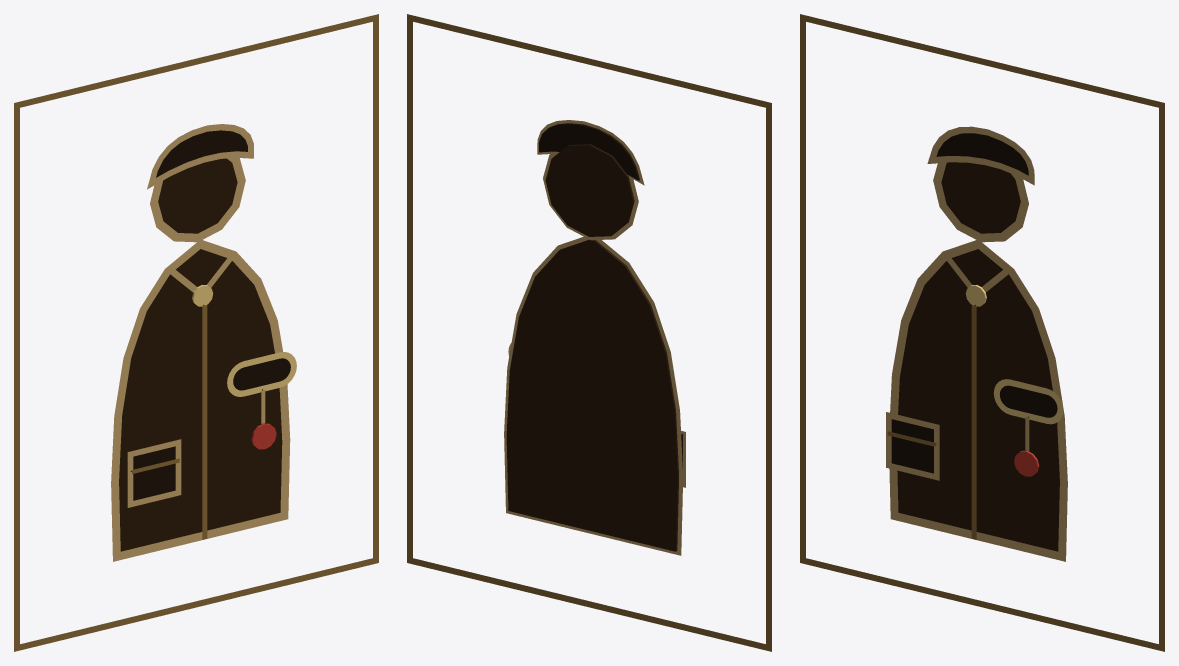
The model's file is npc-latinskiy-legat.glb.
3 views of the same model, side by side, from view 1: azimuth 30°, elevation 25°; view 2: azimuth 150°, elevation 25°; view 3: azimuth 330°, elevation 25° (orthographic).
Parts seen in each view (by area): view 1: npc-latinskiy-legat; view 2: npc-latinskiy-legat; view 3: npc-latinskiy-legat.
Part boxes in pixels (left/top/right/bottom): npc-latinskiy-legat: left=14, top=14, right=378, bottom=651; npc-latinskiy-legat: left=407, top=14, right=771, bottom=651; npc-latinskiy-legat: left=800, top=14, right=1164, bottom=651.
Bounding box in the file's own units: 1.14 × 1.64 × 0.0829.
